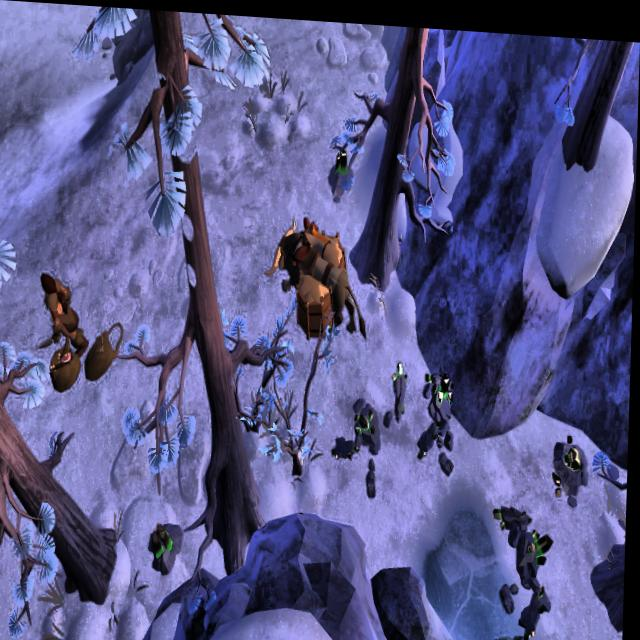enemy_factionKeeper: (38, 261, 88, 364)
ore_t3: (156, 521, 177, 558), (335, 143, 349, 177)
rock_t3: (482, 621, 547, 640)
